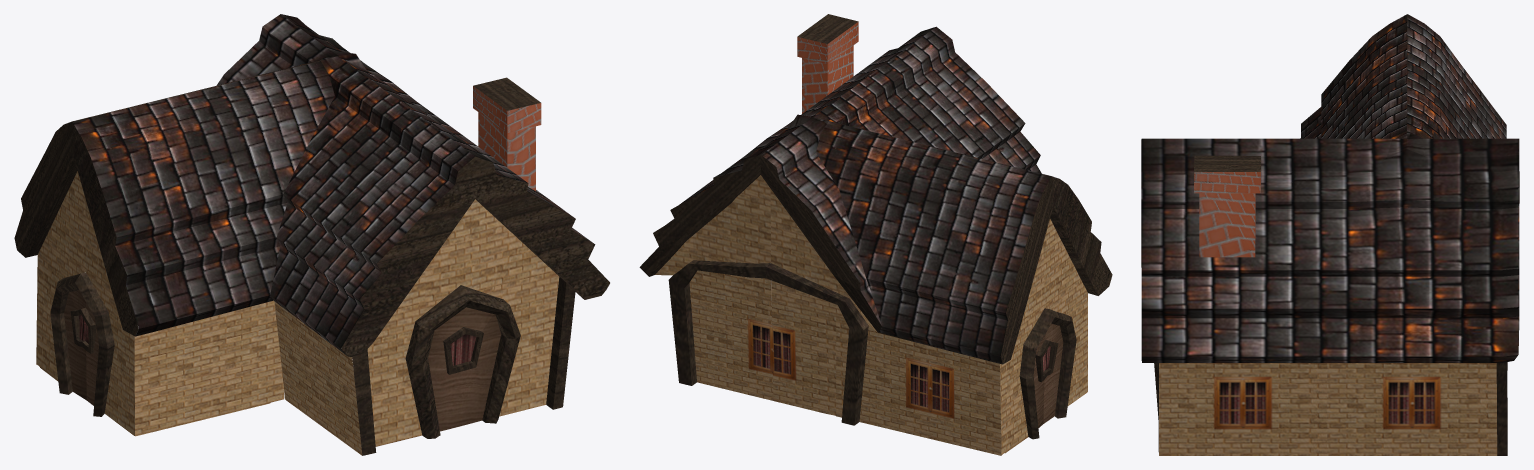
Rendered from Cabaña_Finished_001.fbx.
3 views of the same model, side by side, from view 1: azimuth 30°, elevation 25°; view 2: azimuth 150°, elevation 25°; view 3: azimuth 270°, elevation 25° (orthographic). The views are drawn at different scales.
Parts seen in each view (by area): view 1: Cube; view 2: Cube; view 3: Cube.
Part boxes in pixels (bbox=[...]): Cube: bbox=[14, 14, 609, 455]; Cube: bbox=[639, 14, 1112, 455]; Cube: bbox=[1141, 14, 1519, 455].
Bounding box in the file's own units: 232 × 162 × 196.
